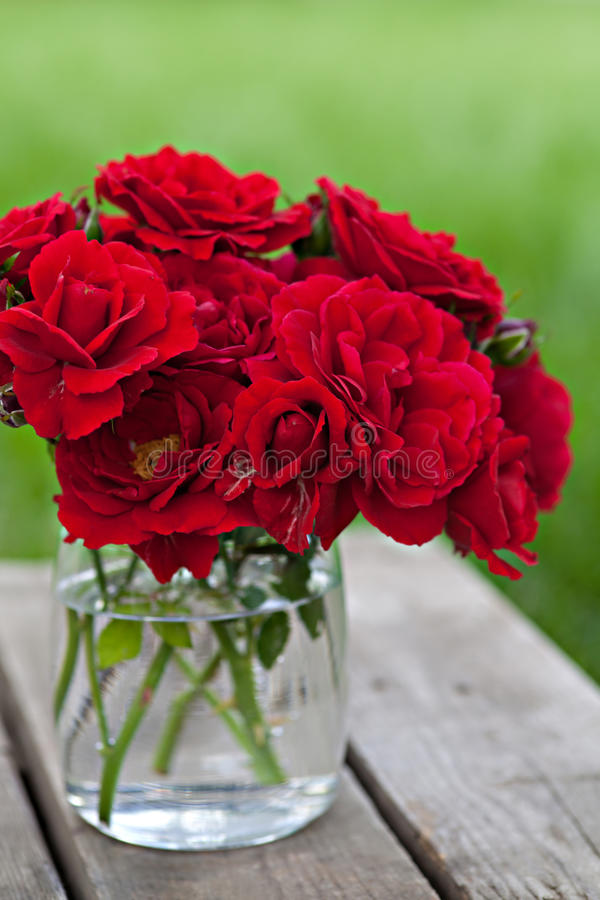RedRose: (287, 273, 500, 542), (54, 359, 260, 579), (1, 228, 197, 431), (313, 148, 505, 313), (85, 123, 322, 253), (450, 351, 586, 569), (160, 240, 327, 391), (235, 383, 360, 561), (1, 180, 94, 256)
